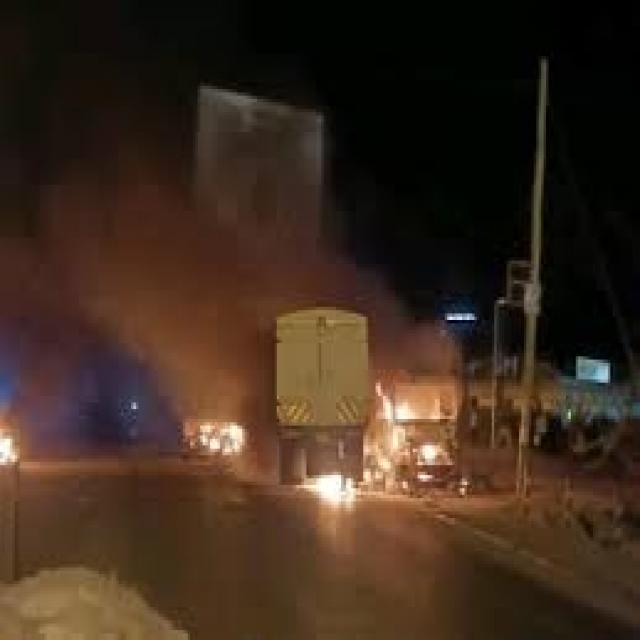fire: (366, 379, 454, 498), (192, 416, 245, 458), (304, 468, 356, 505)
smoke: (17, 125, 277, 406), (277, 132, 457, 379)
